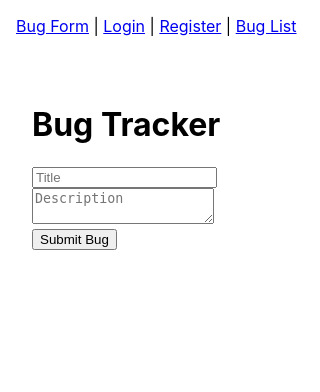
Scenario: Bug creation flow › submits a bug successfully
Type "Bug A" into the field with placeholder "Title" at coordinates (125, 178), box [32,167,217,188]
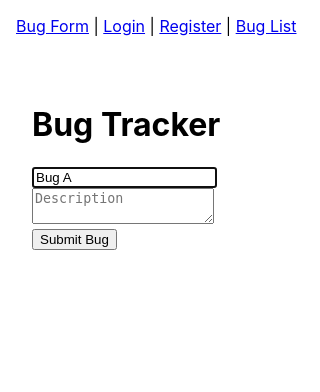
Type "Something broke" into the text box with placeholder "Description" at coordinates (123, 206), box [32,188,214,224]
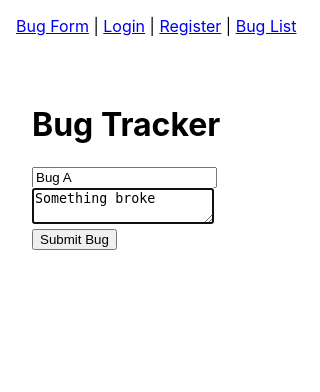
Click the button "Submit Bug" at coordinates (75, 240), box [32,229,117,250]
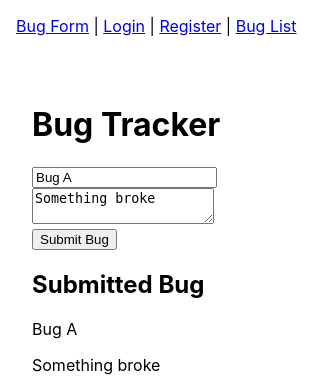
Expected: the text "Bug A" is shown, [32,319,77,339]
